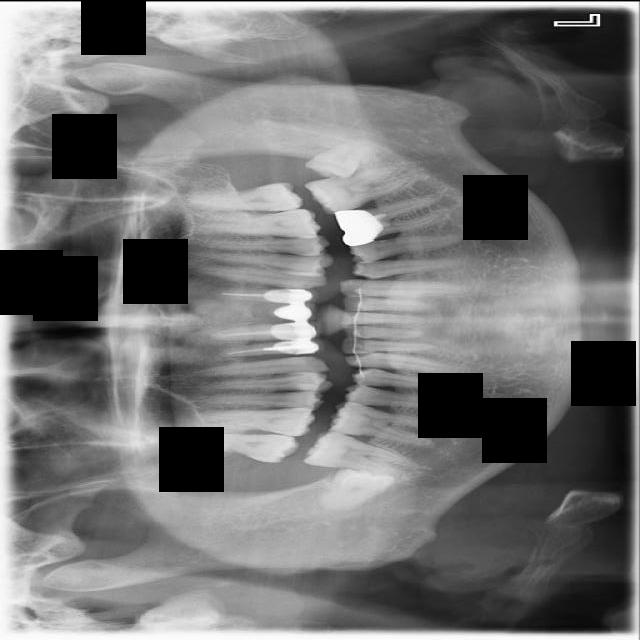52: (263, 283, 326, 358), (335, 199, 386, 249)
73: (210, 323, 275, 342), (207, 284, 270, 302), (216, 342, 279, 358), (556, 75, 564, 78)
BioHorizons Implant: (190, 179, 304, 219)
Biomet 3i Implant: (303, 127, 384, 193)
Blue Sky Bio Implant: (303, 159, 418, 219)
Caries: (182, 430, 301, 463)
Implant: (302, 428, 416, 476)
Keystone Dental Implant: (320, 464, 395, 516)
